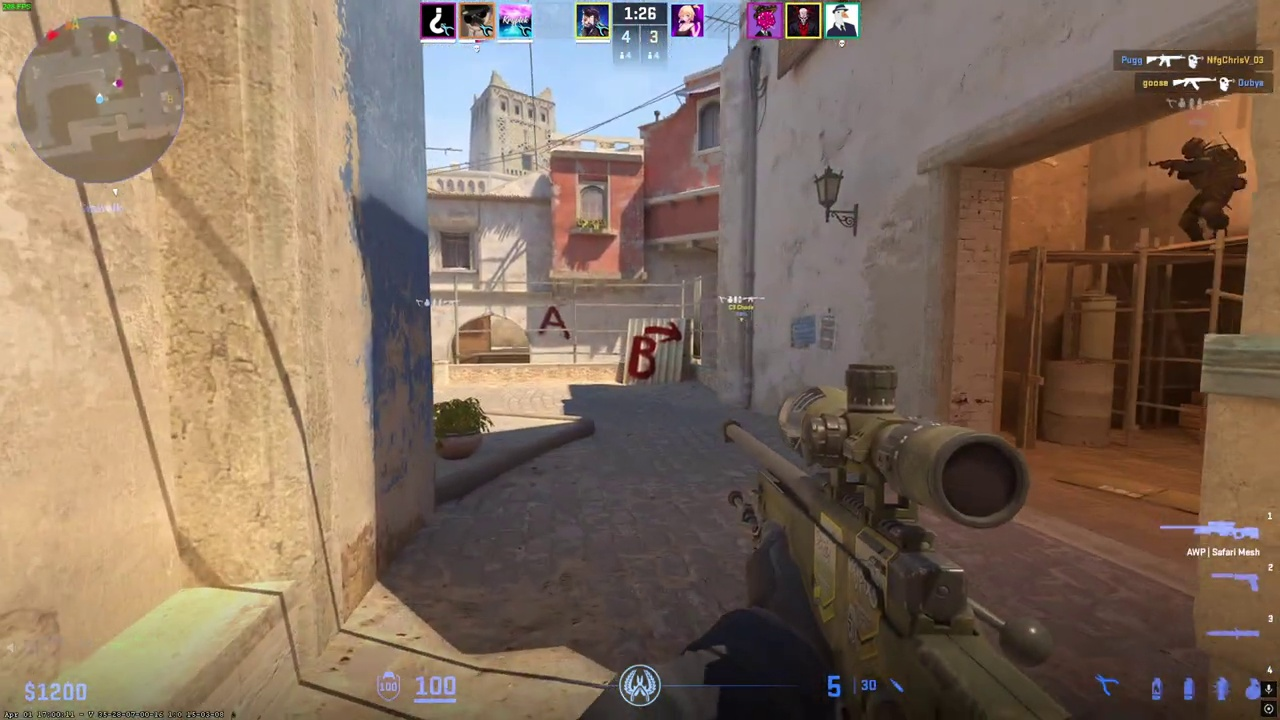CT: (1171, 137, 1243, 242)
